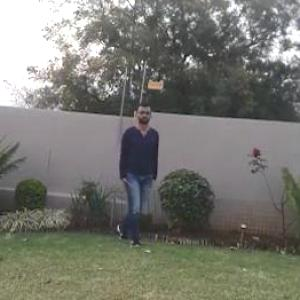follow: (111, 103, 159, 251)
